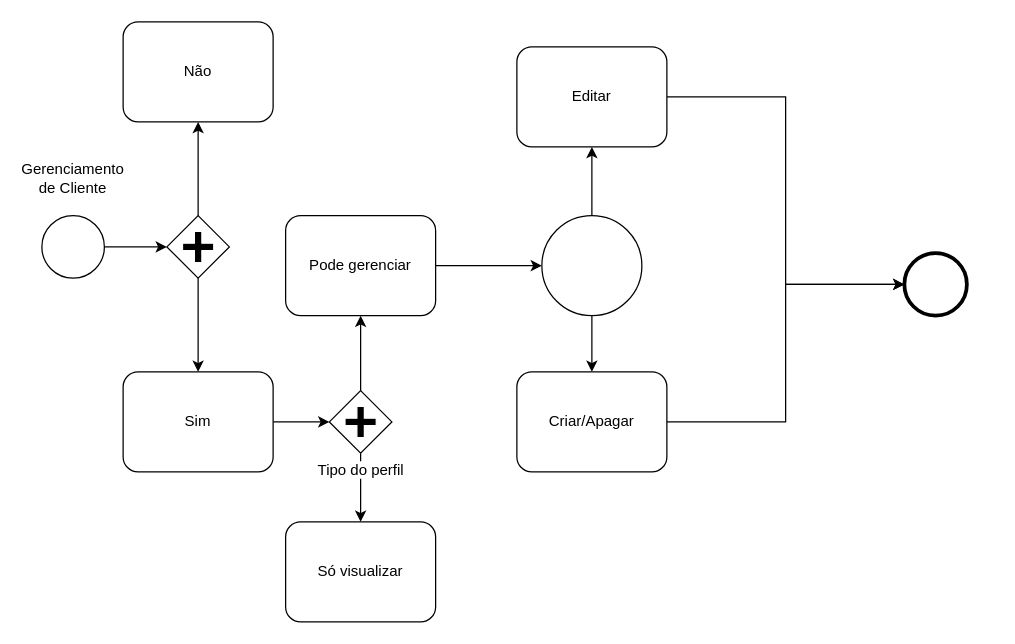
Image size: 1015x644. Some labels were removed from this diagram. Each missing label, with the box of its shape:
Funções: (541, 214, 642, 316)
Gerenciar Cliente: (903, 252, 967, 316)
Tem acesso?: (166, 214, 229, 278)
